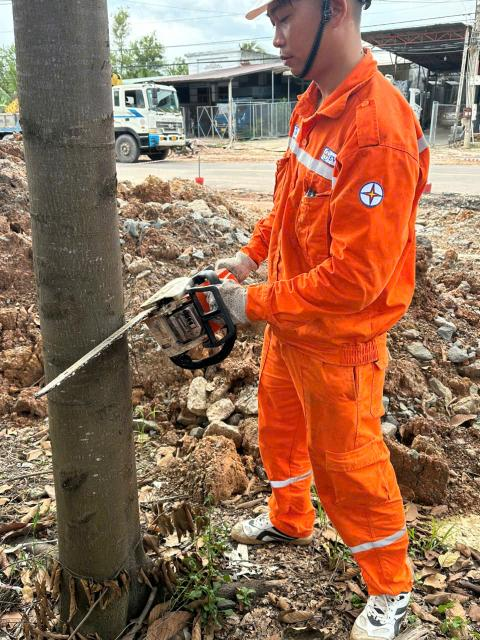gloves: (196, 277, 267, 331), (204, 246, 268, 288)
shoes: (226, 496, 323, 555), (346, 576, 423, 640)
